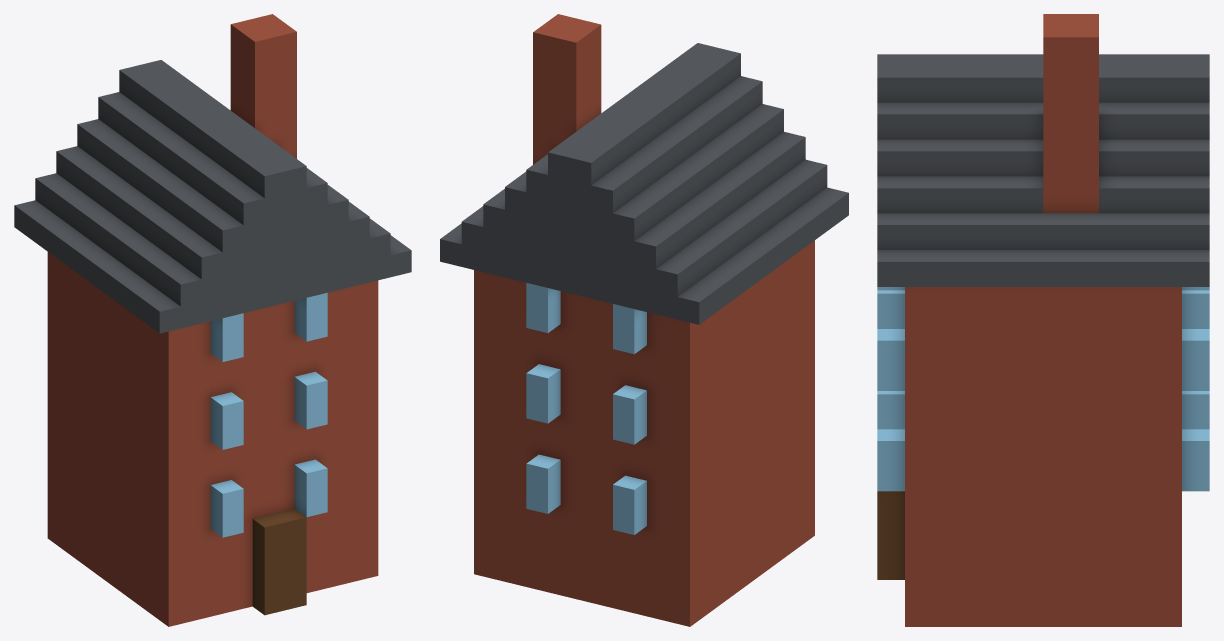
The model's file is c_brick.glb.
The picture shows the model from 3 angles, left to right: view 1: azimuth 30°, elevation 25°; view 2: azimuth 150°, elevation 25°; view 3: azimuth 270°, elevation 25°; orthographic projection. The views are drawn at different scales.
Visible parts, largest first — view 1: c_brick_body; view 2: c_brick_body; view 3: c_brick_body.
Part boxes in pixels (<box>): c_brick_body: <box>14,14,411,626</box>; c_brick_body: <box>440,14,848,626</box>; c_brick_body: <box>877,14,1209,626</box>.
Size of the model in its own units: 0.75 by 1.44 by 0.75.
Materials: 1 (1 with a texture image).
